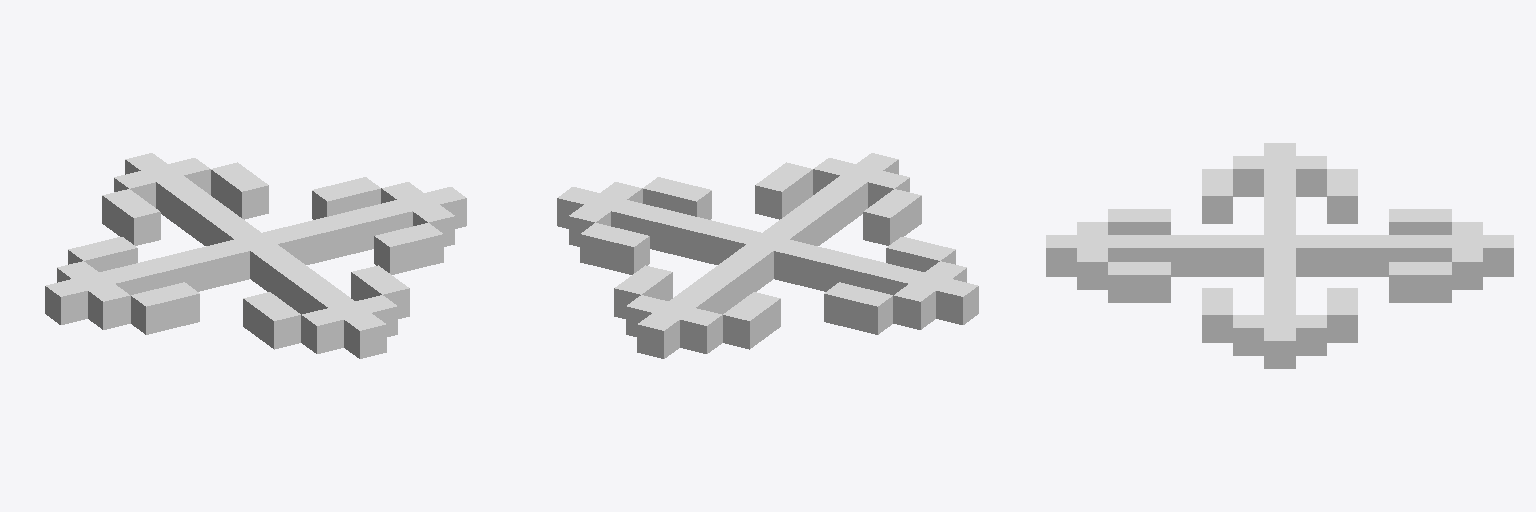
The picture shows the model from 3 angles: view 1: azimuth 30°, elevation 25°; view 2: azimuth 150°, elevation 25°; view 3: azimuth 270°, elevation 25°; orthographic projection.
Parts seen in each view (by area): view 1: QuadrupleArrow; view 2: QuadrupleArrow; view 3: QuadrupleArrow.
Boxes of the visible parts, box(x1,y1,x2,y2) form: QuadrupleArrow: box(45, 153, 466, 358); QuadrupleArrow: box(557, 153, 978, 358); QuadrupleArrow: box(1046, 143, 1513, 368).
Bounding box in the file's own units: 15 × 1 × 15.
Materials: 1 (1 with a texture image).